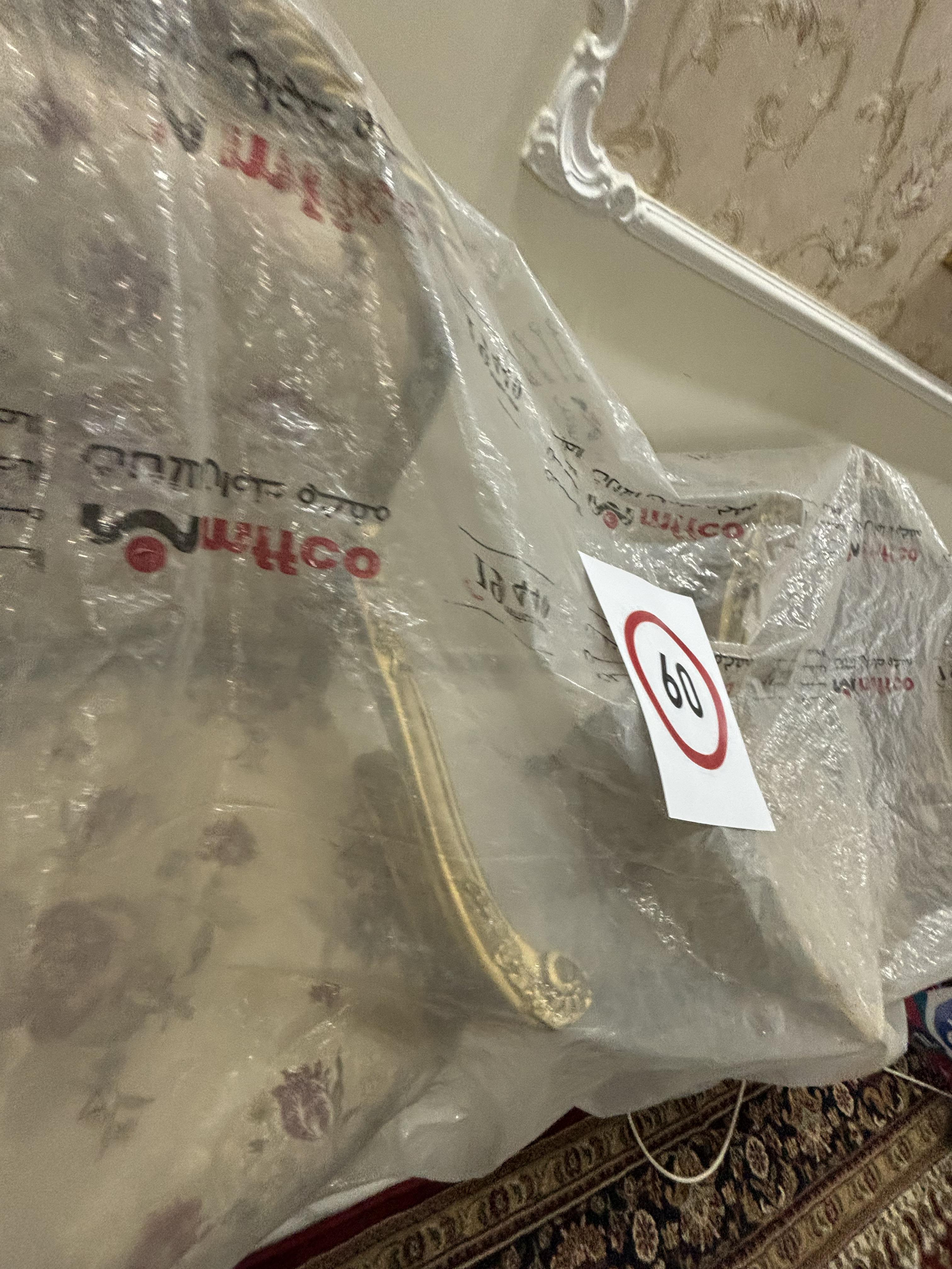60-Speed: (620, 602, 737, 769)
